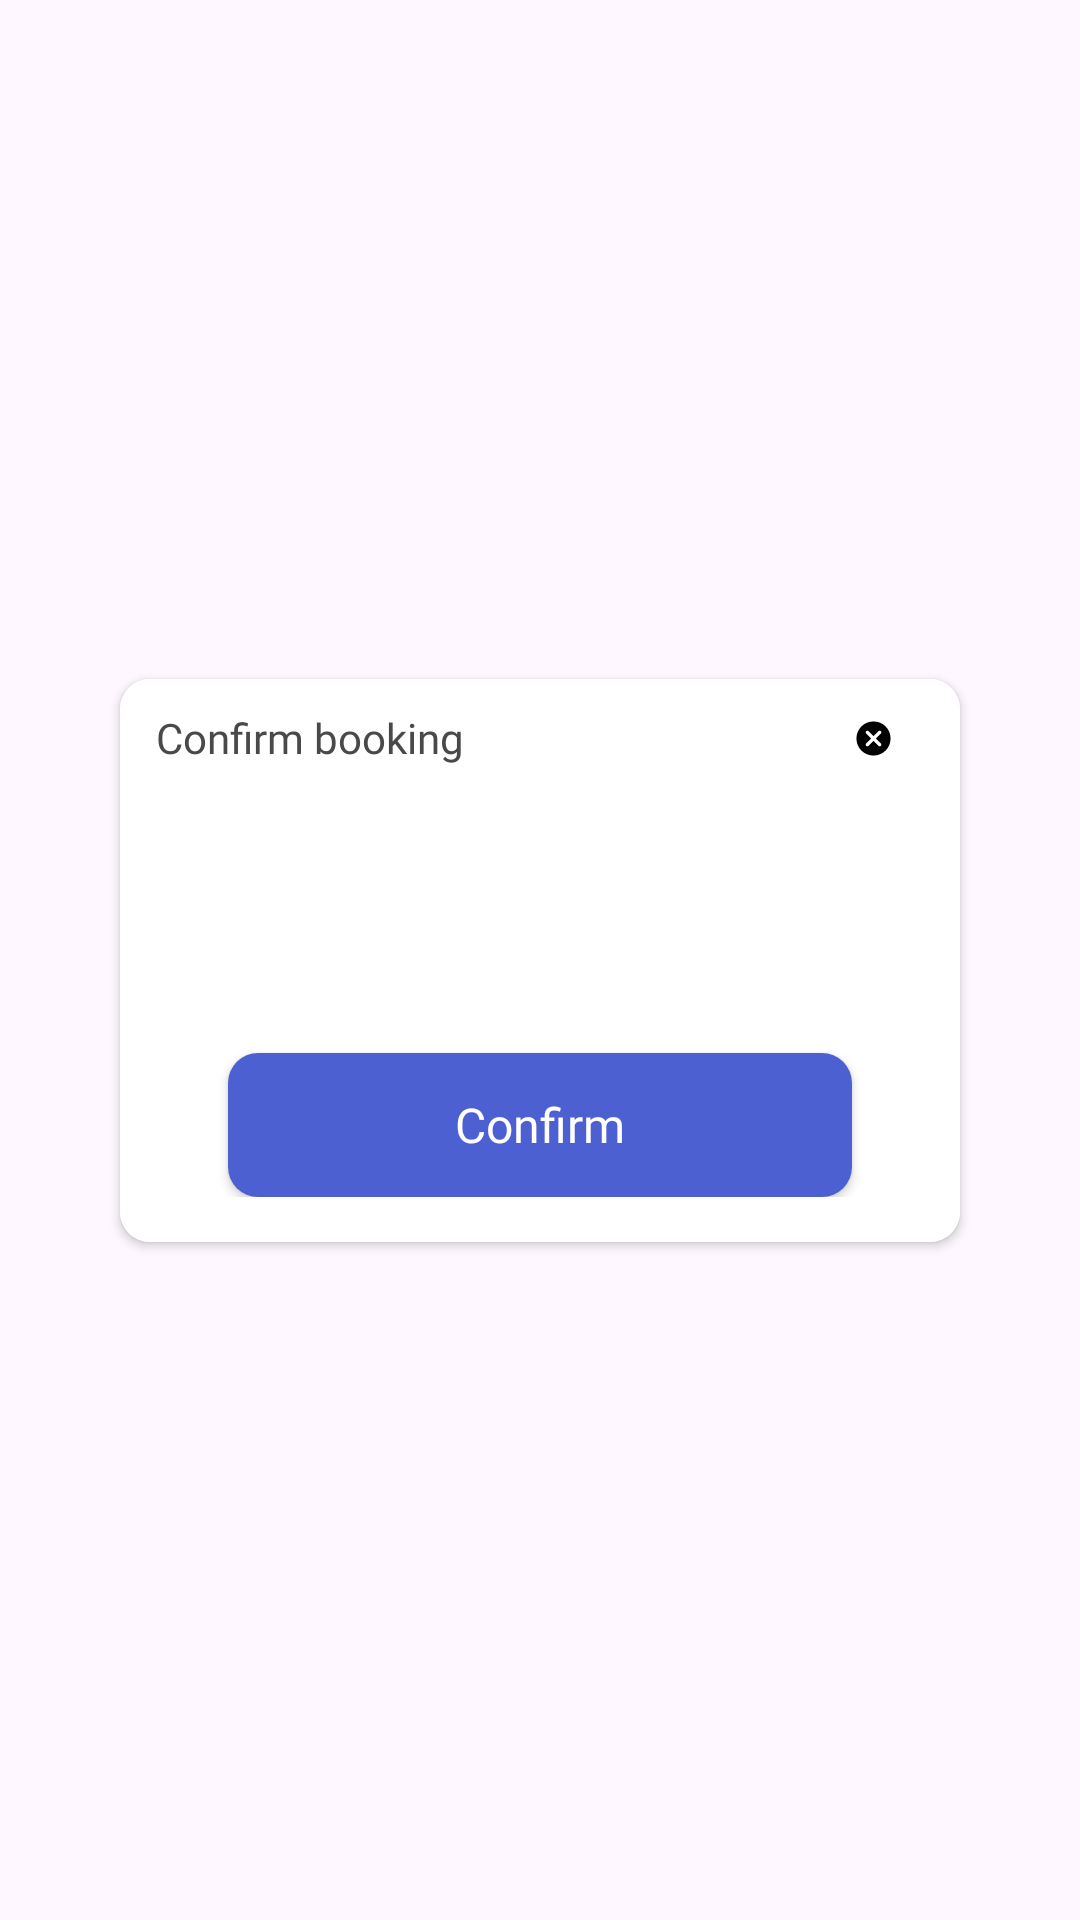

Point at icon controls on the screen. Image size 1080 × 1920, points as point (x, y).
cancel: point (873, 738)
